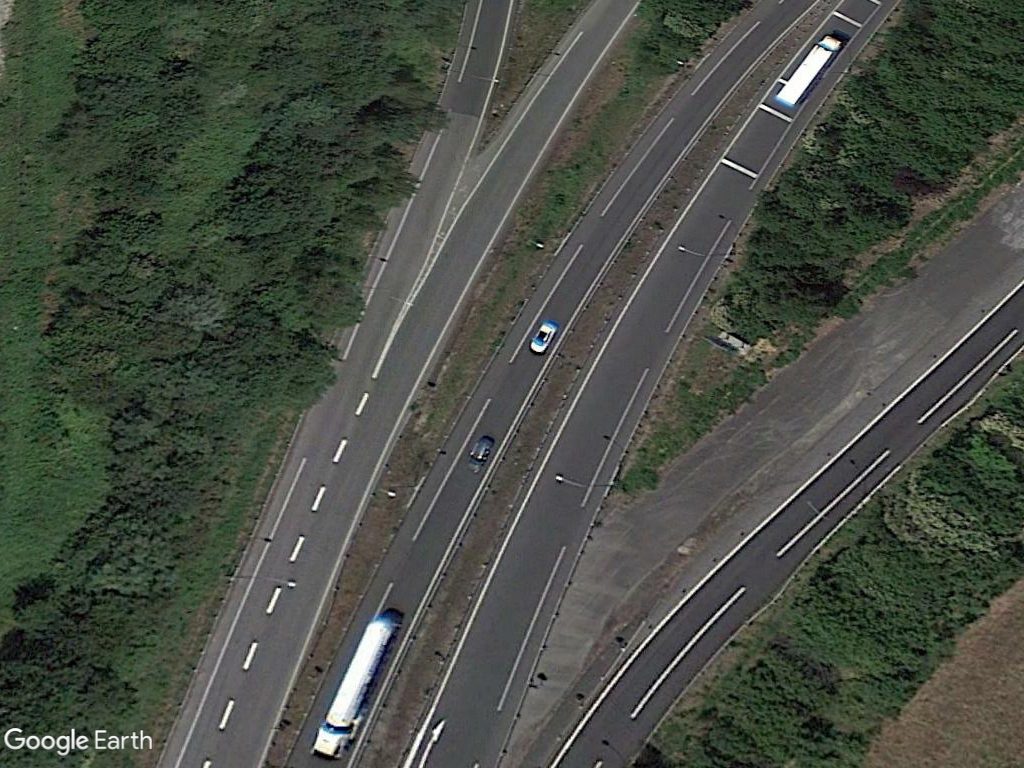car: (528, 318, 559, 358)
longvehicle: (310, 604, 402, 764)
